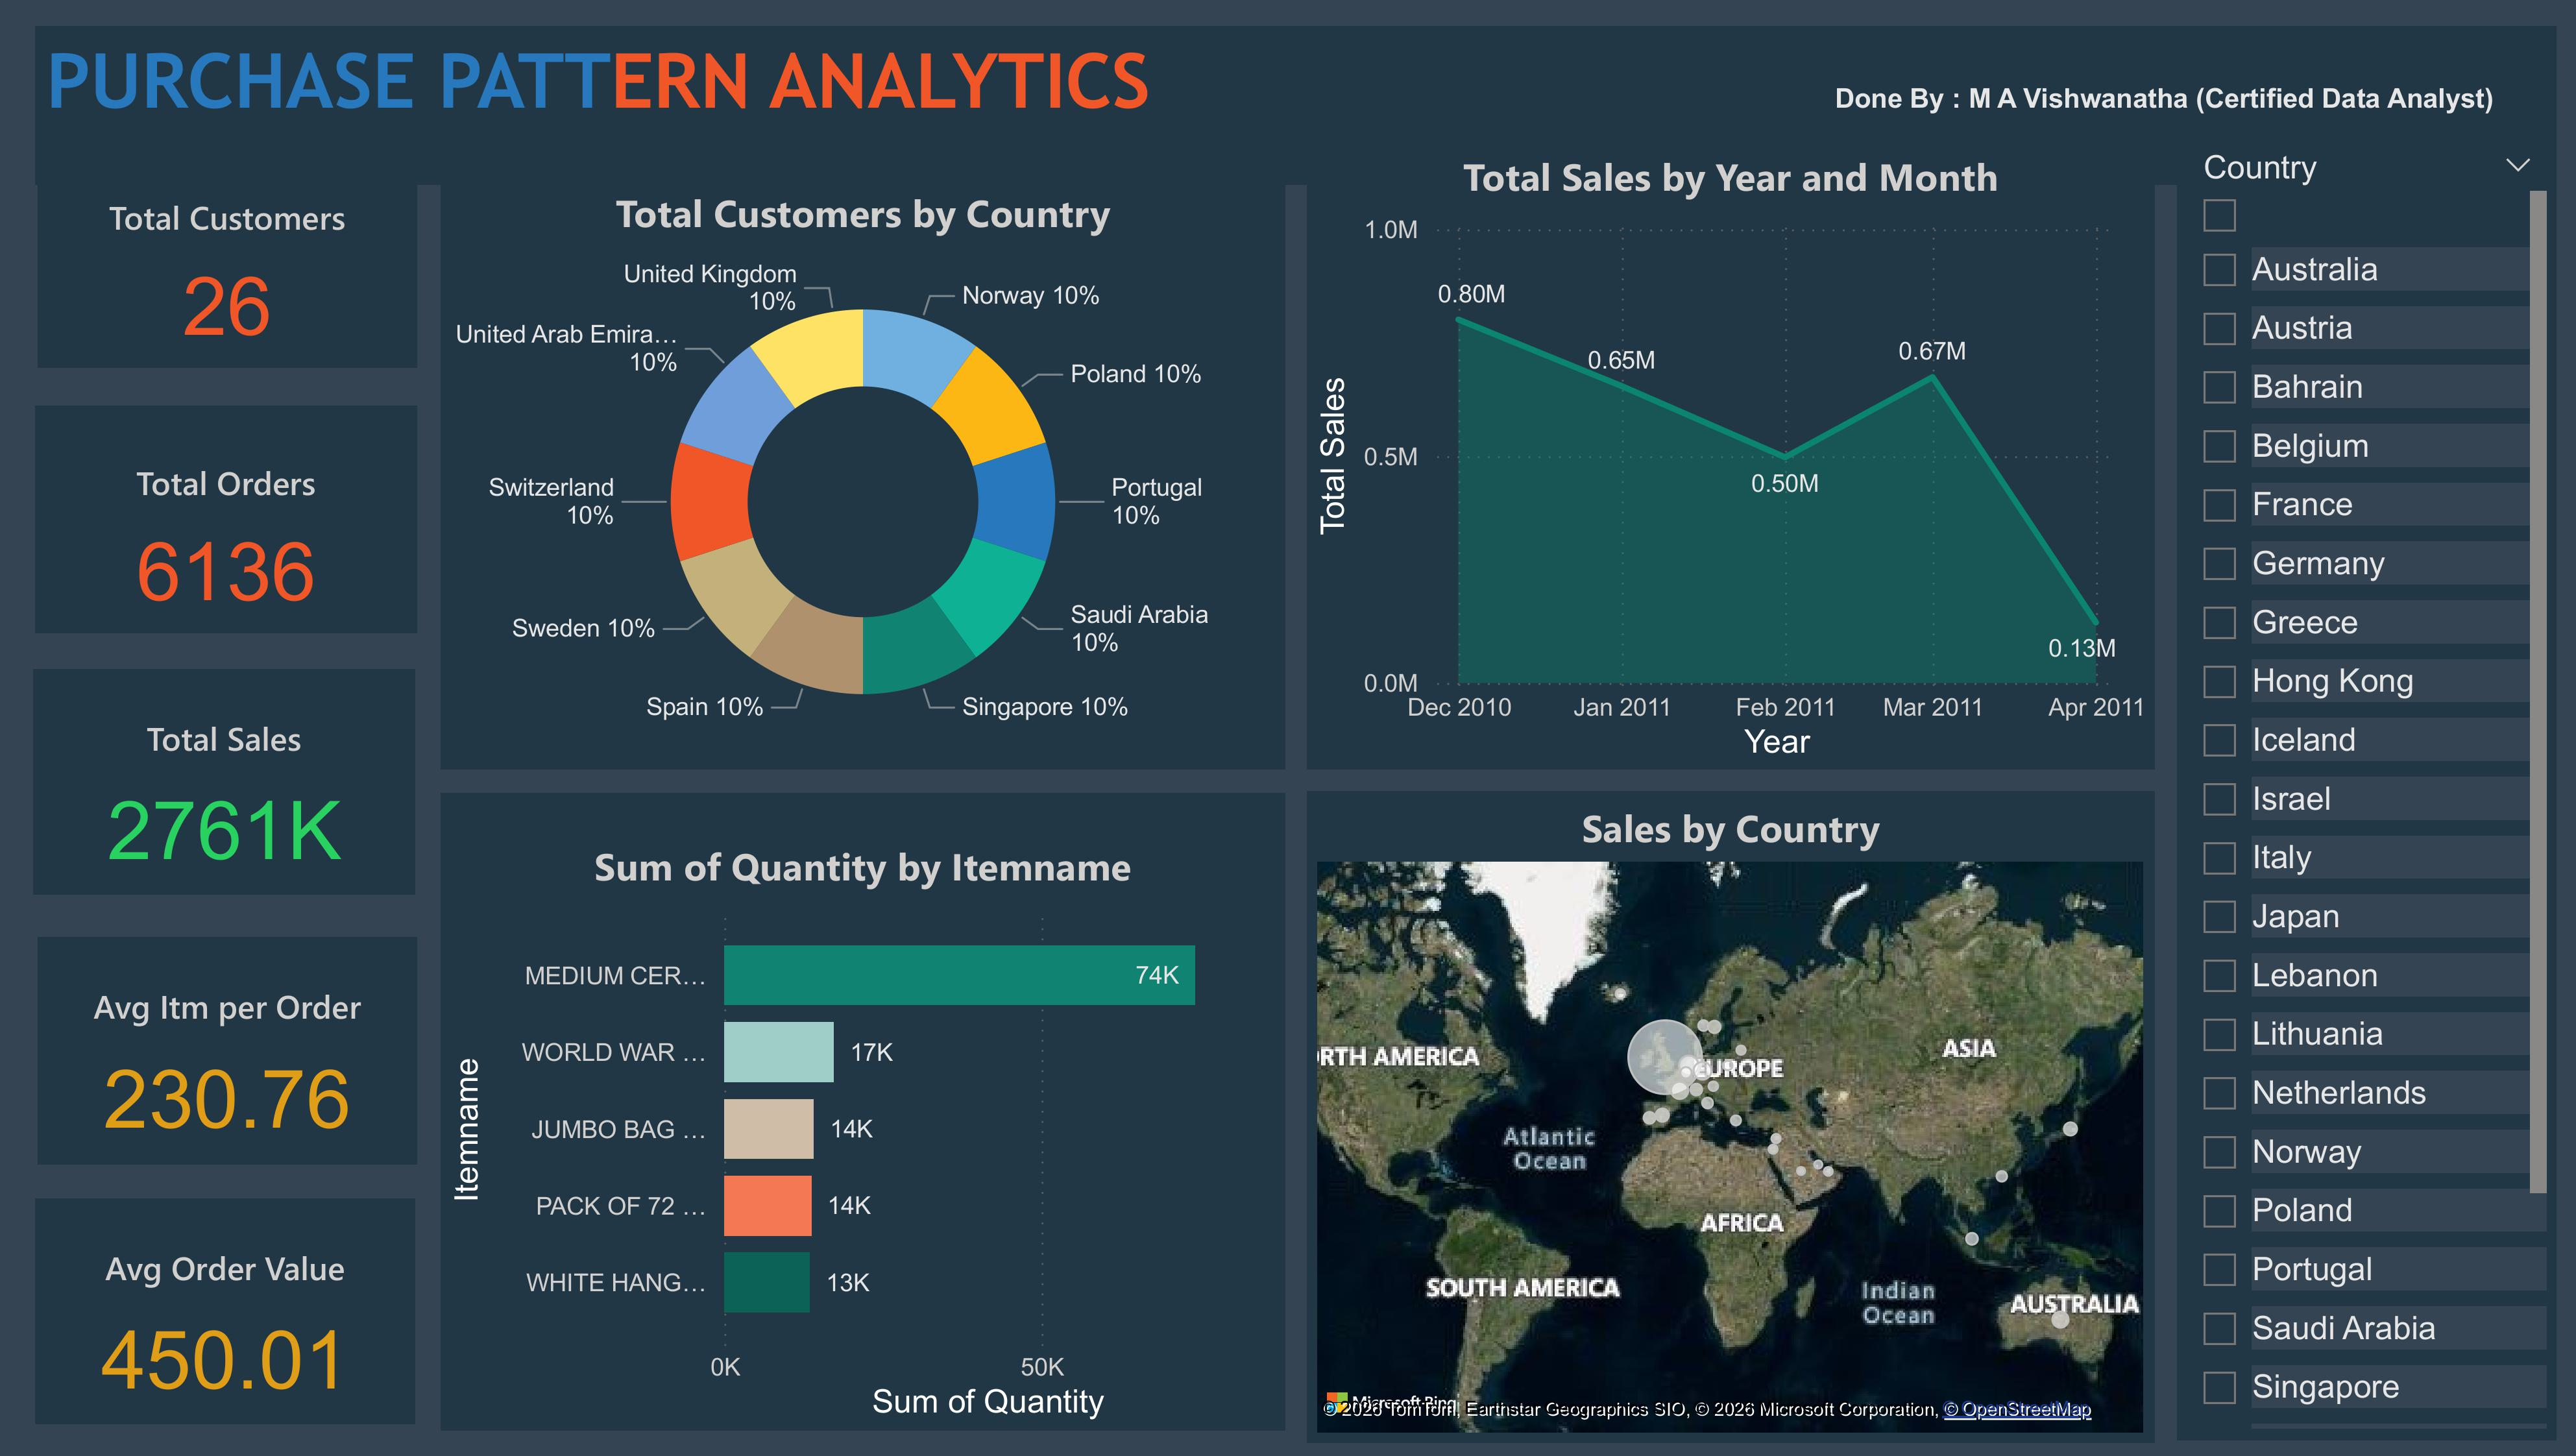

What the dashboard file says about the page in this screenshot:
{"tool":"powerbi","page":{"name":"Page 1","canvas":[1280,720],"ordinal":0},"visuals":[{"type":"card","title":" ","fields":{"Values":["Purchase Pattern Analytics Dataset.Total Sales"]},"box":[22,330.7,188,111.1],"z":0},{"type":"card","title":" ","fields":{"Values":["Purchase Pattern Analytics Dataset.Total Orders"]},"box":[22.5,201.4,188.7,111.3],"z":1000},{"type":"card","title":" ","fields":{"Values":["Purchase Pattern Analytics Dataset.Total Customers"]},"box":[23.9,70.4,187.3,111.3],"z":2000},{"type":"card","title":" ","fields":{"Values":["Purchase Pattern Analytics Dataset.Avg Order Value"]},"box":[22.5,591.5,187.3,111.3],"z":3000},{"type":"card","title":" ","fields":{"Values":["Purchase Pattern Analytics Dataset.Avg Items per Order"]},"box":[23.9,463.4,187.3,111.3],"z":4000},{"type":"textbox","box":[22.5,14.1,1243.7,77.5],"z":5000},{"type":"slicer","fields":{"Values":["Purchase Pattern Analytics Dataset.Country"]},"box":[1078.9,70.4,187.3,640.8],"z":6000},{"type":"lineChart","fields":{"Category":["Purchase Pattern Analytics Dataset.Present_Date.Variation.Date Hierarchy.Year","Purchase Pattern Analytics Dataset.Present_Date.Variation.Date Hierarchy.Month"],"Y":["Purchase Pattern Analytics Dataset.Total Sales"]},"box":[650.4,70,417.2,310.1],"z":7000},{"type":"map","fields":{"Category":["Purchase Pattern Analytics Dataset.Country"],"Size":["Purchase Pattern Analytics Dataset.Total Sales"]},"box":[650.4,391.1,417.2,321.1],"z":8000},{"type":"donutChart","title":" ","fields":{"Y":["Purchase Pattern Analytics Dataset.Total Customers"],"Category":["Purchase Pattern Analytics Dataset.Country"]},"box":[222.5,70.4,416.9,309.9],"z":9000},{"type":"clusteredBarChart","title":" ","fields":{"Category":["Purchase Pattern Analytics Dataset.Itemname"],"Y":["Sum(Purchase Pattern Analytics Dataset.Quantity)"]},"box":[222.5,391.5,416.9,314.1],"z":10000}]}

Visuals, with their boxes in screenshot pixels (x1, y1, x2, y2), scaled from the page's 1280x720 canvas onto the 2576x1456 screenshot:
" " card: {"x1": 44, "y1": 669, "x2": 422, "y2": 893}
" " card: {"x1": 45, "y1": 407, "x2": 425, "y2": 633}
" " card: {"x1": 48, "y1": 142, "x2": 425, "y2": 367}
" " card: {"x1": 45, "y1": 1196, "x2": 422, "y2": 1421}
" " card: {"x1": 48, "y1": 937, "x2": 425, "y2": 1162}
textbox: {"x1": 45, "y1": 29, "x2": 2548, "y2": 185}
slicer - Purchase Pattern Analytics Dataset.Country: {"x1": 2171, "y1": 142, "x2": 2548, "y2": 1438}
lineChart - Purchase Pattern Analytics Dataset.Present_Date.Variation.Date Hierarchy.Year x Purchase Pattern Analytics Dataset.Present_Date.Variation.Date Hierarchy.Month: {"x1": 1309, "y1": 141, "x2": 2148, "y2": 769}
map - Purchase Pattern Analytics Dataset.Country x Purchase Pattern Analytics Dataset.Total Sales: {"x1": 1309, "y1": 791, "x2": 2148, "y2": 1440}
" " donutChart: {"x1": 448, "y1": 142, "x2": 1287, "y2": 769}
" " clusteredBarChart: {"x1": 448, "y1": 792, "x2": 1287, "y2": 1427}
